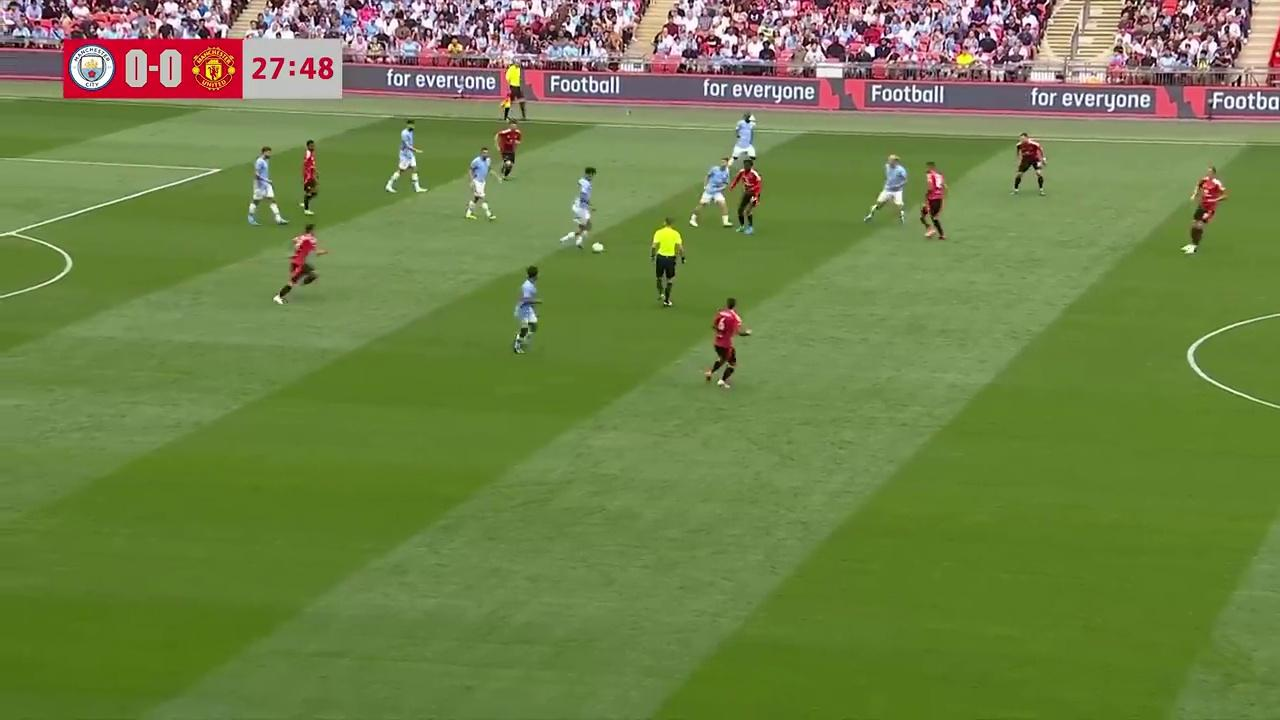ball: (591, 239, 605, 253), (1182, 241, 1195, 255)
player: (273, 223, 329, 305), (704, 296, 751, 388), (1185, 165, 1226, 252), (561, 166, 600, 252), (246, 146, 286, 226), (863, 153, 908, 224), (385, 122, 426, 194), (689, 160, 731, 228), (511, 266, 542, 354), (465, 145, 497, 221), (1012, 132, 1047, 195), (732, 162, 762, 235), (920, 162, 947, 240), (727, 113, 756, 173), (494, 120, 522, 181), (300, 139, 318, 213)
referee: (649, 217, 685, 307), (649, 217, 685, 306), (498, 55, 537, 123)
